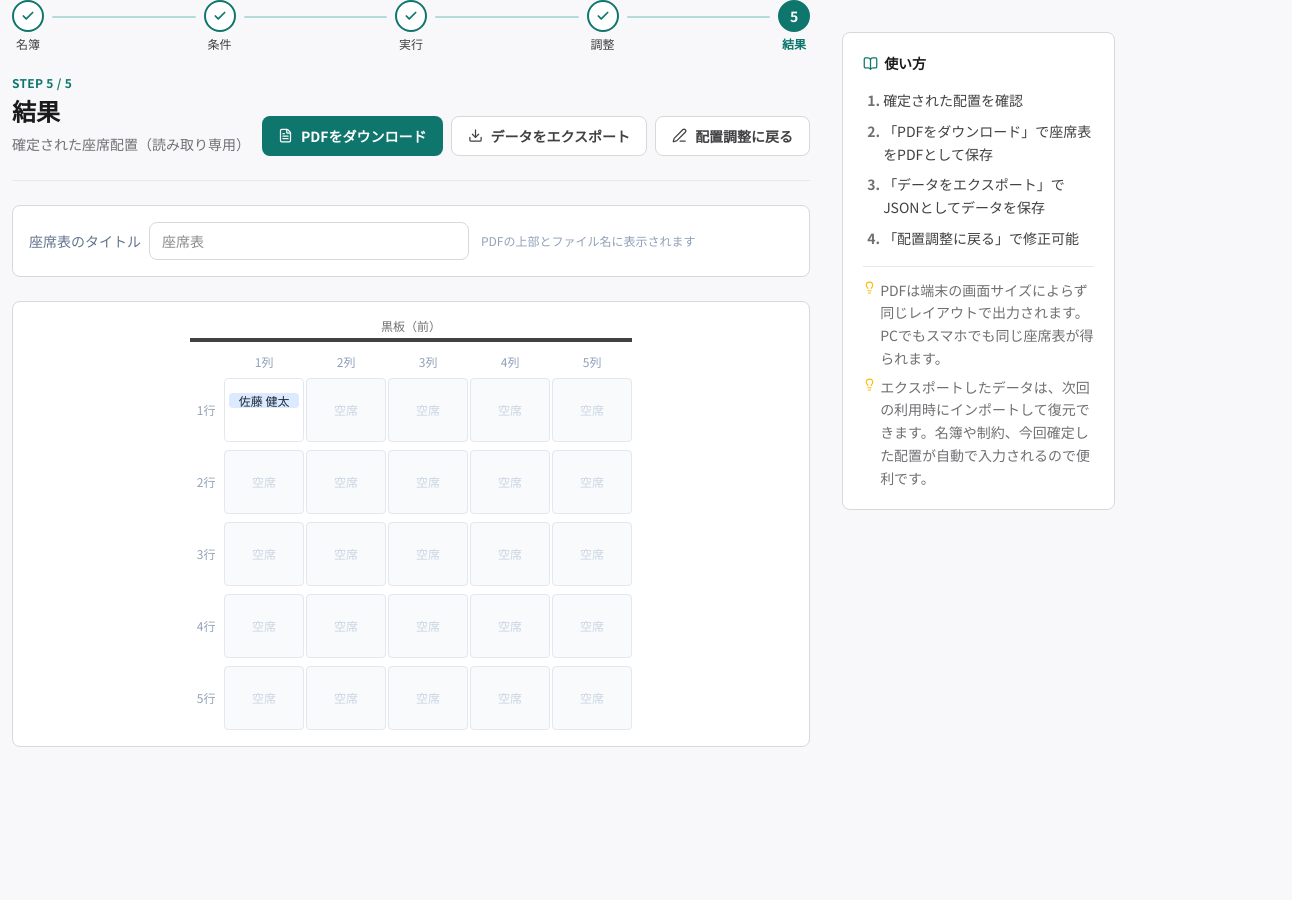
Scenario: DisplayPage › 生成失敗時にエラーメッセージを表示する
The image size is (1292, 900).
Click the button "PDFをダウンロード": (352, 136) [262,116,442,156]
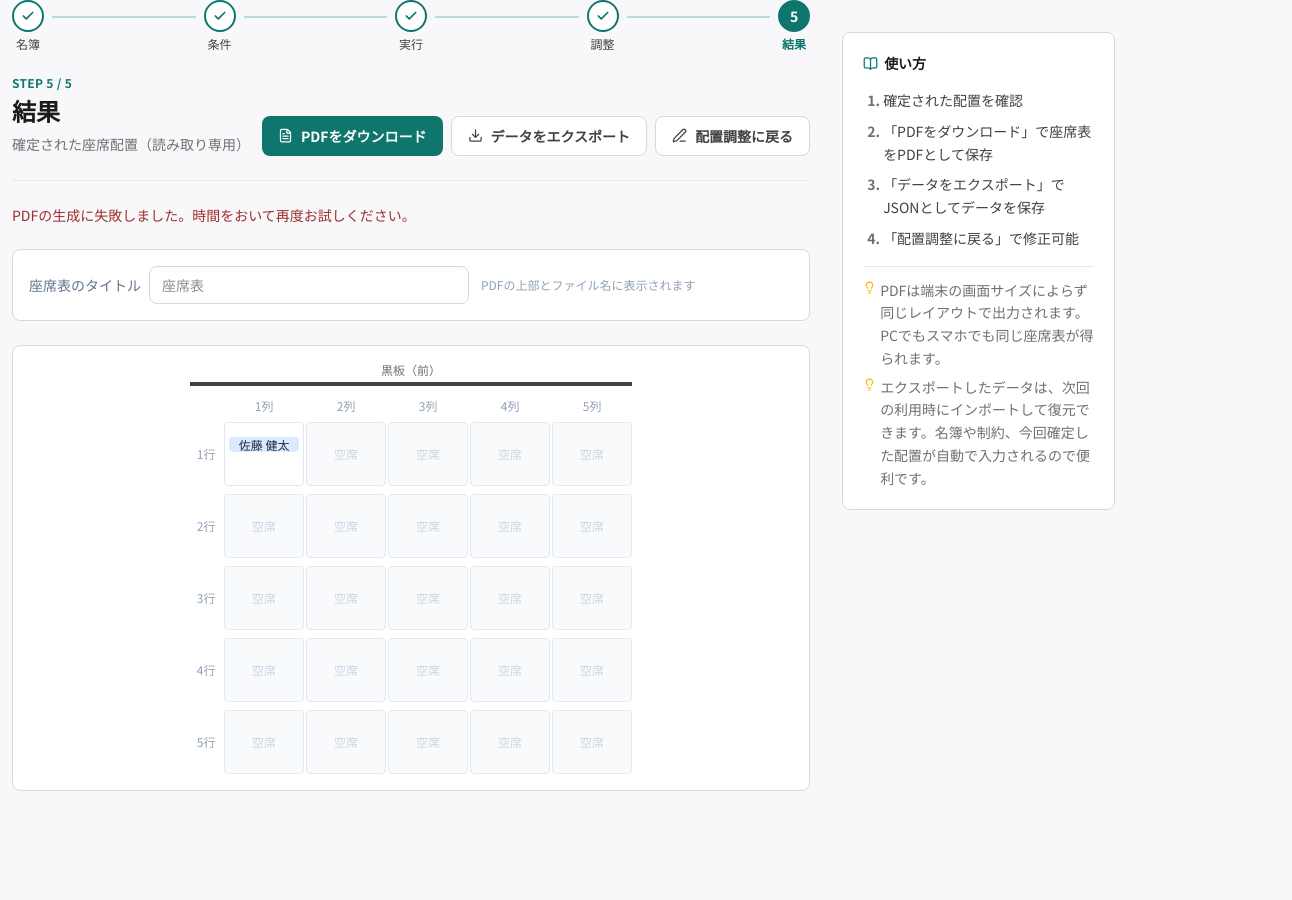
Now the message shows "PDFの生成に失敗", box [12,205,416,225]
